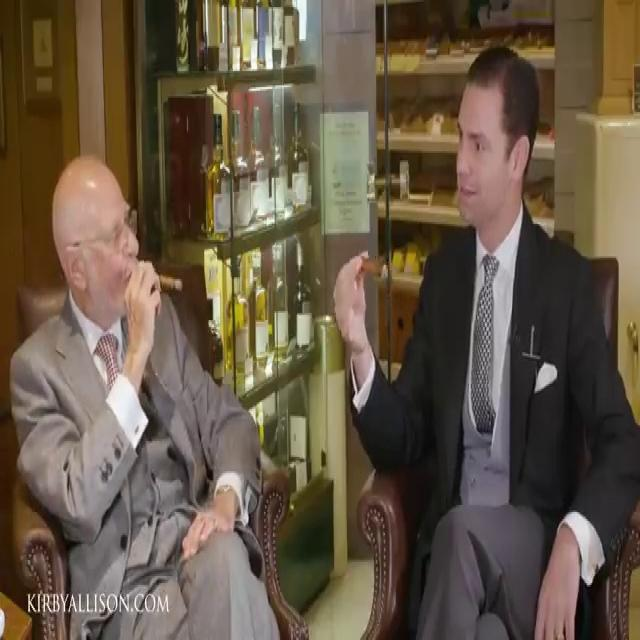Smooking: (361, 255, 399, 290), (154, 266, 187, 298)
